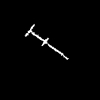double_crochet: (25, 25, 67, 58)
